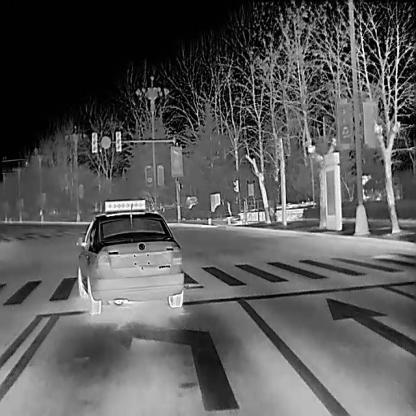car: (75, 198, 183, 316)
